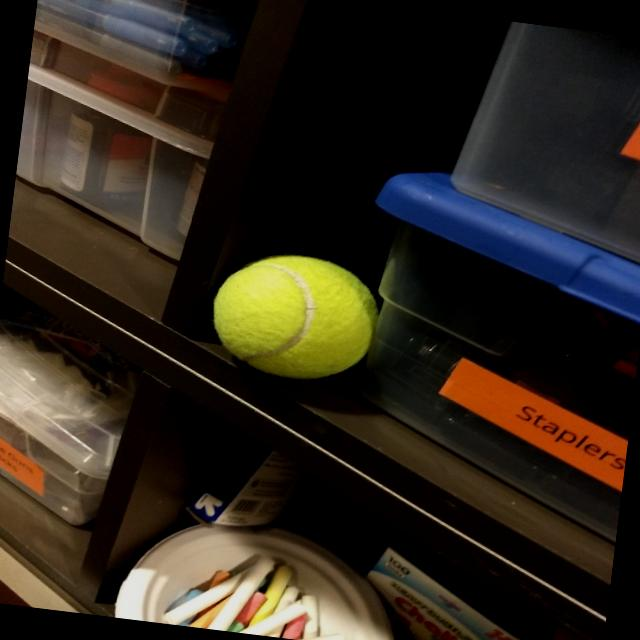Tennis Ball: (205, 243, 386, 390)
